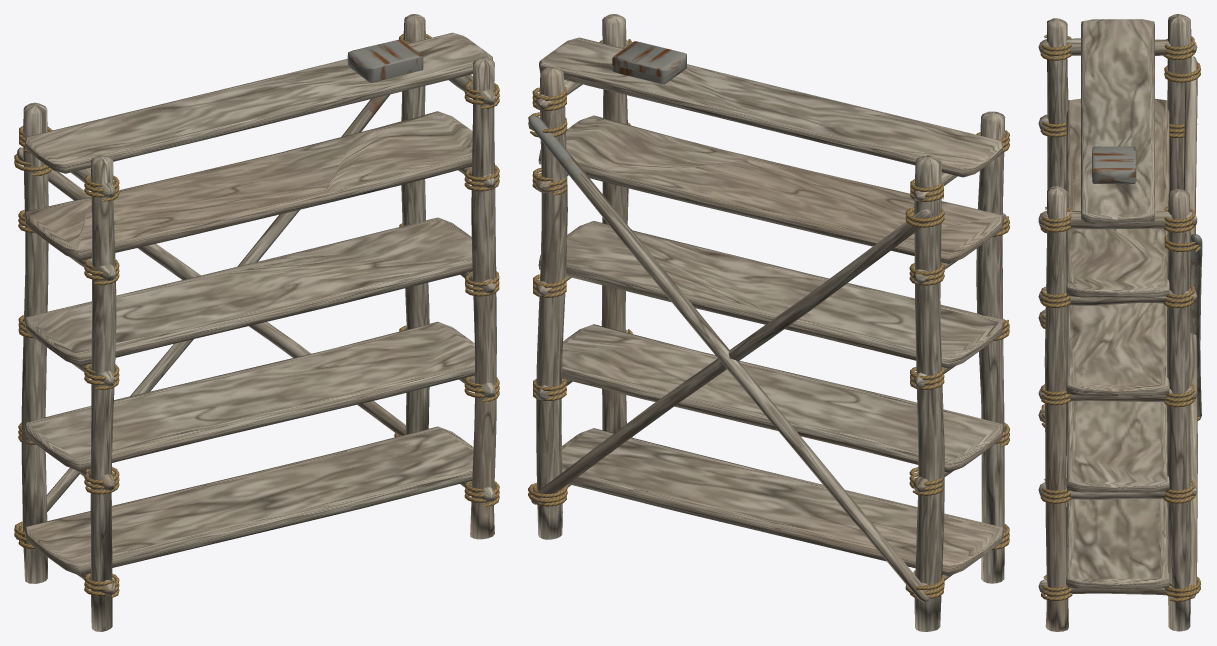
File: keepsake-shelf.glb
The picture shows the model from 3 angles, left to right: view 1: azimuth 30°, elevation 25°; view 2: azimuth 150°, elevation 25°; view 3: azimuth 270°, elevation 25°; orthographic projection. The views are drawn at different scales.
Visible parts, largest first — view 1: keepsake_shelf; view 2: keepsake_shelf; view 3: keepsake_shelf.
Boxes of the visible parts, x1,y1,x2,y2 form: keepsake_shelf: [14, 14, 499, 631]; keepsake_shelf: [528, 14, 1009, 631]; keepsake_shelf: [1038, 14, 1202, 631].
Size of the model in its own units: 1.28 by 1.31 by 0.4423.
1 material, 1 textured.
